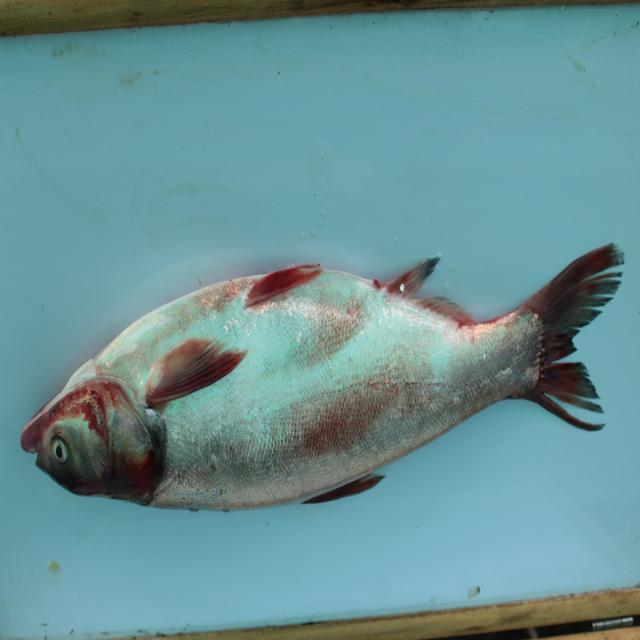SilverCarp: (17, 238, 640, 511)
